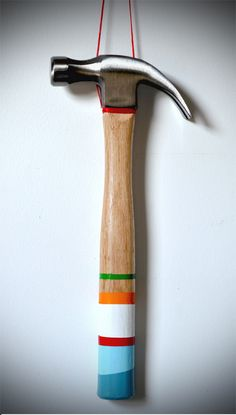hammer: (45, 44, 203, 408)
